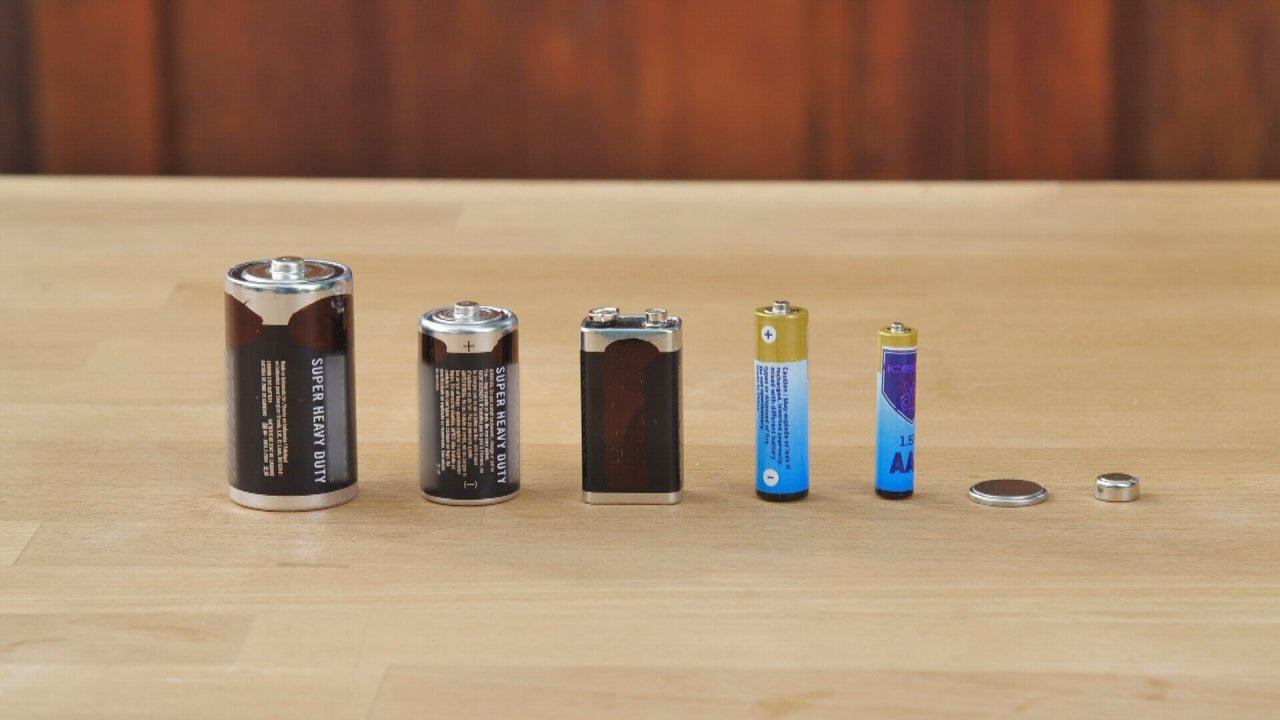Battery: (218, 249, 361, 514), (574, 299, 691, 509), (415, 298, 525, 510), (751, 298, 811, 507), (871, 319, 922, 503), (967, 474, 1051, 512), (1090, 470, 1144, 506)
